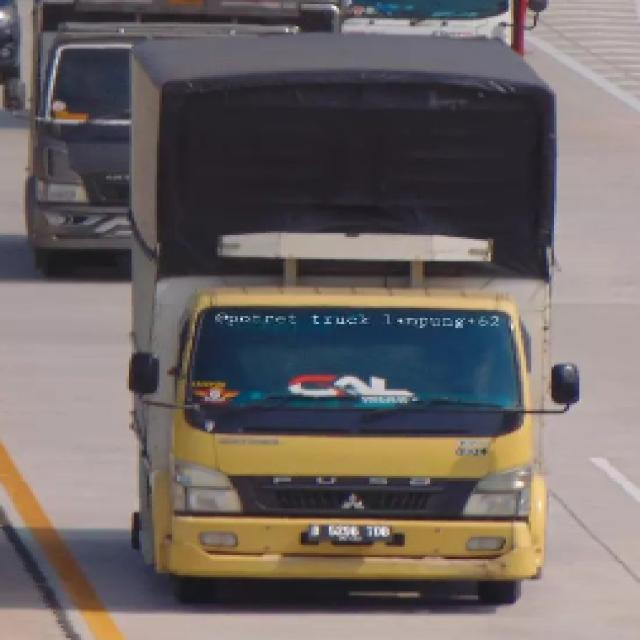truck: (123, 25, 600, 617)
